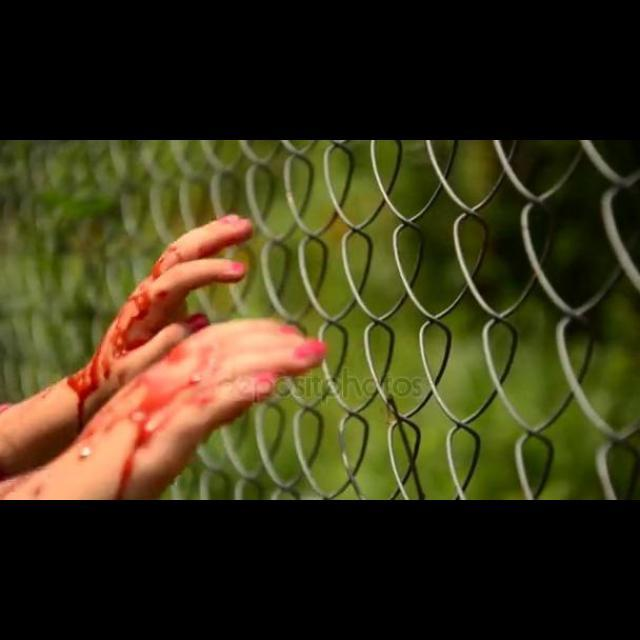blood: (0, 215, 327, 498)
